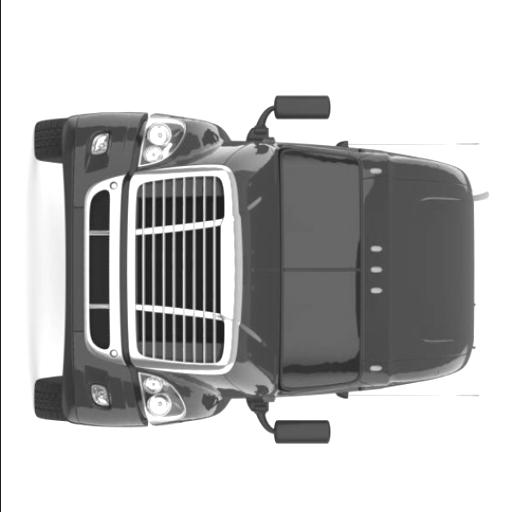truck: (31, 90, 483, 448)
